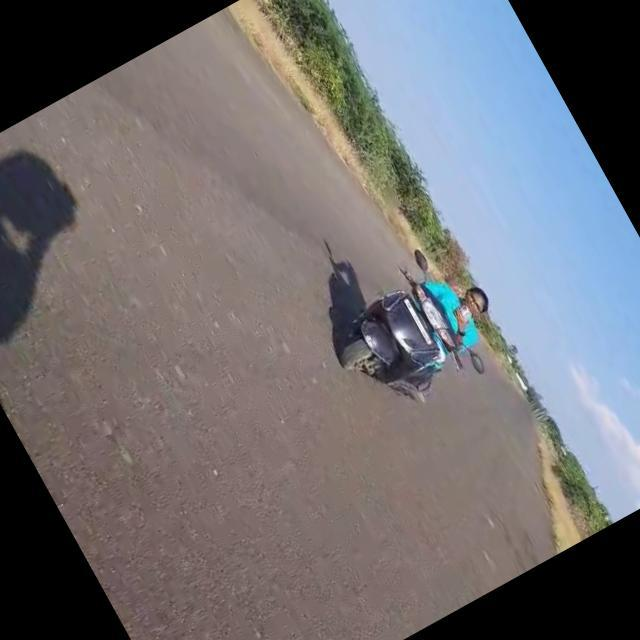USING_MOBILE: (446, 280, 500, 336)
